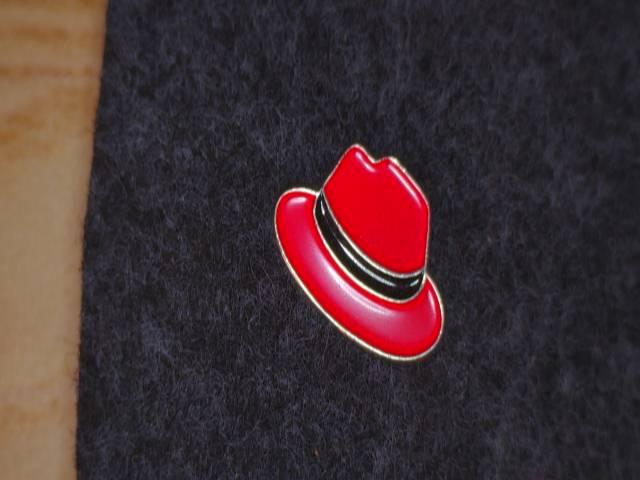Red-Hat: (250, 120, 457, 384)
